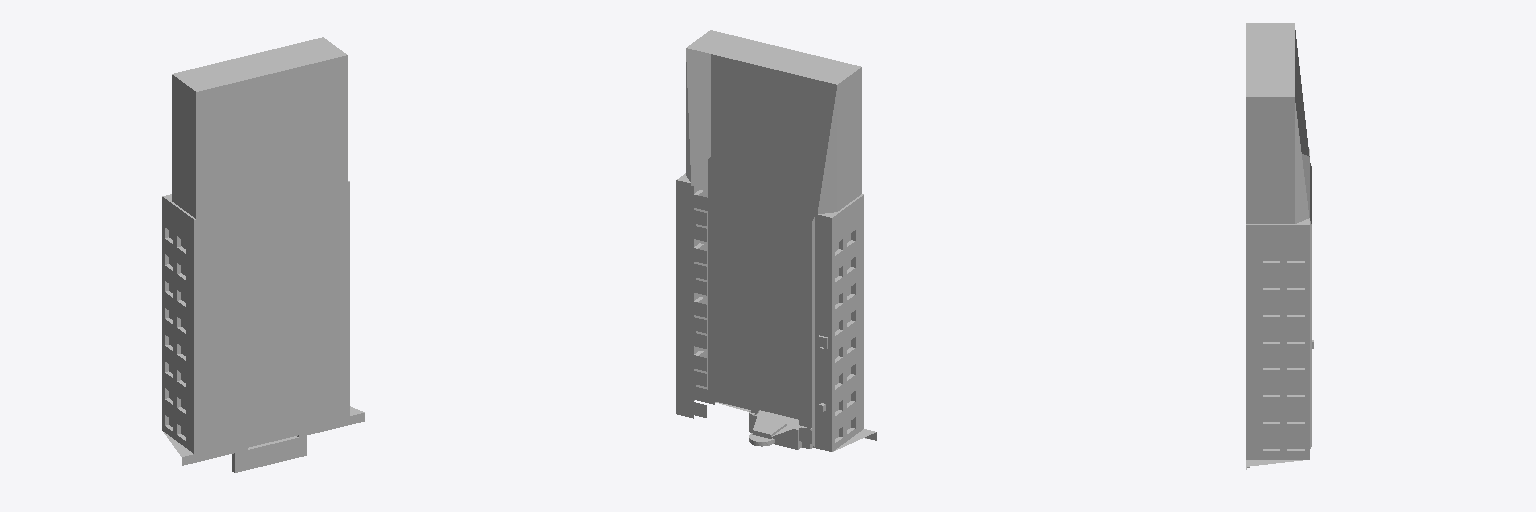
3 renders of one model, left to right at view 1: azimuth 30°, elevation 25°; view 2: azimuth 150°, elevation 25°; view 3: azimuth 270°, elevation 25°, orthographic.
Parts seen in each view (by area): view 1: samochodowka_cz1; view 2: samochodowka_cz1; view 3: samochodowka_cz1.
Boxes of the visible parts, box(x1,y1,x2,y2) form: samochodowka_cz1: box(162, 37, 364, 472); samochodowka_cz1: box(676, 30, 876, 451); samochodowka_cz1: box(1246, 23, 1313, 469).
Bounding box in the file's own units: 0.0253 × 0.0515 × 0.0082.